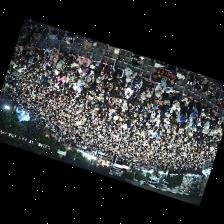person: (112, 54, 125, 79), (99, 57, 110, 75), (78, 54, 91, 69), (63, 51, 78, 64), (143, 77, 155, 93), (172, 94, 181, 115), (163, 87, 177, 99), (125, 67, 137, 80), (152, 89, 162, 104), (104, 69, 113, 85), (132, 73, 142, 86), (155, 83, 165, 96), (160, 100, 166, 121), (66, 66, 77, 77), (182, 95, 194, 105), (113, 78, 123, 90), (163, 99, 170, 116), (127, 93, 136, 106), (125, 83, 133, 97), (133, 80, 143, 91), (123, 75, 132, 87), (193, 105, 199, 123), (141, 87, 150, 99), (87, 68, 95, 81), (56, 59, 64, 72), (134, 99, 143, 110), (171, 117, 179, 129), (72, 59, 80, 71), (188, 99, 196, 111), (44, 46, 52, 58), (49, 55, 59, 64), (96, 72, 104, 83), (196, 102, 204, 113), (35, 47, 44, 56), (181, 116, 189, 126), (58, 75, 66, 85), (90, 60, 100, 68), (109, 90, 117, 100), (51, 47, 59, 56), (117, 86, 125, 95), (203, 104, 211, 112), (216, 112, 223, 121), (137, 90, 142, 102), (78, 67, 84, 77), (62, 63, 71, 69), (189, 111, 193, 124), (30, 43, 35, 53), (40, 60, 49, 65), (41, 57, 49, 62)
